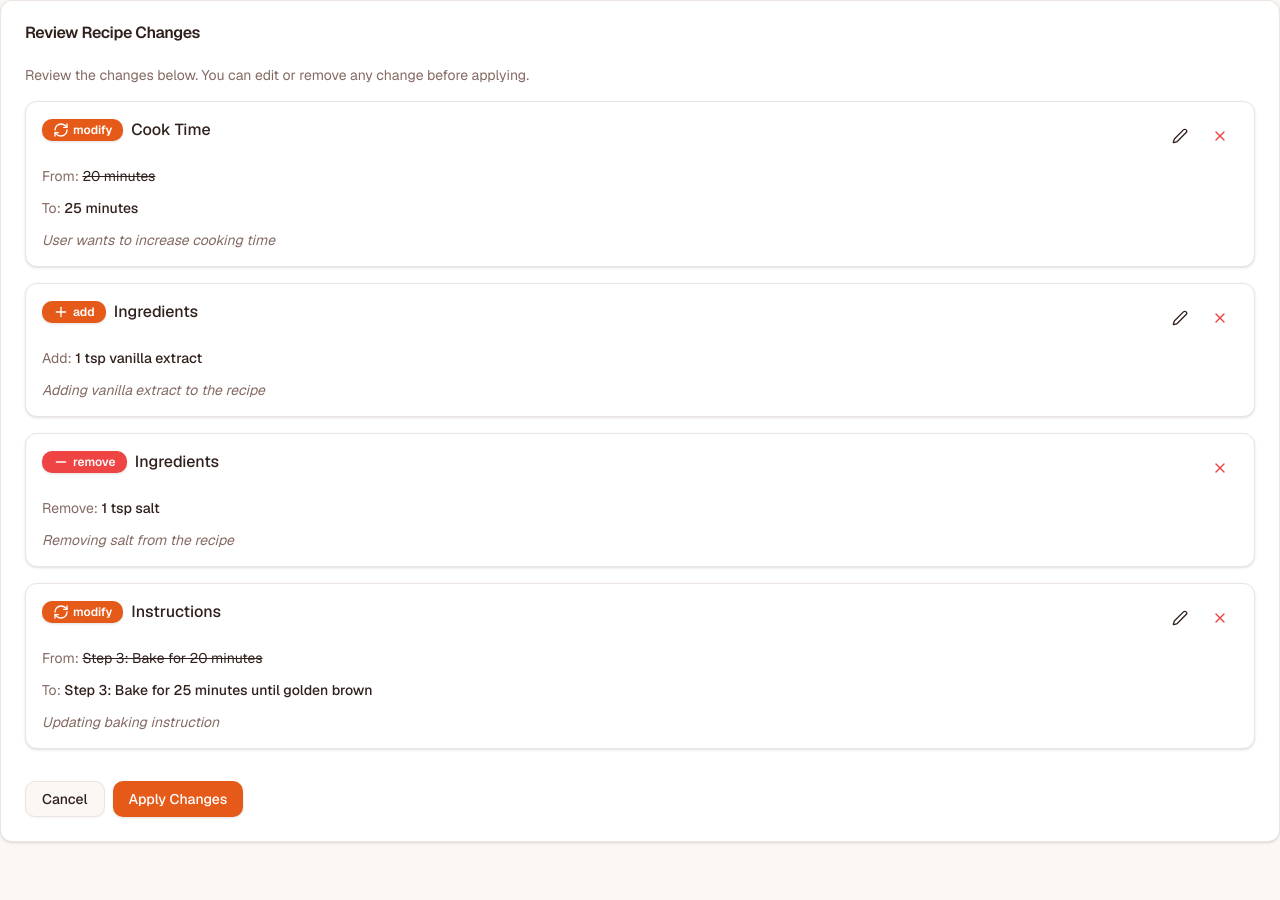
Test: VoiceChangeReview › allows removing a change
Click the 2nd button: click(1220, 136) [1202, 118, 1238, 154]
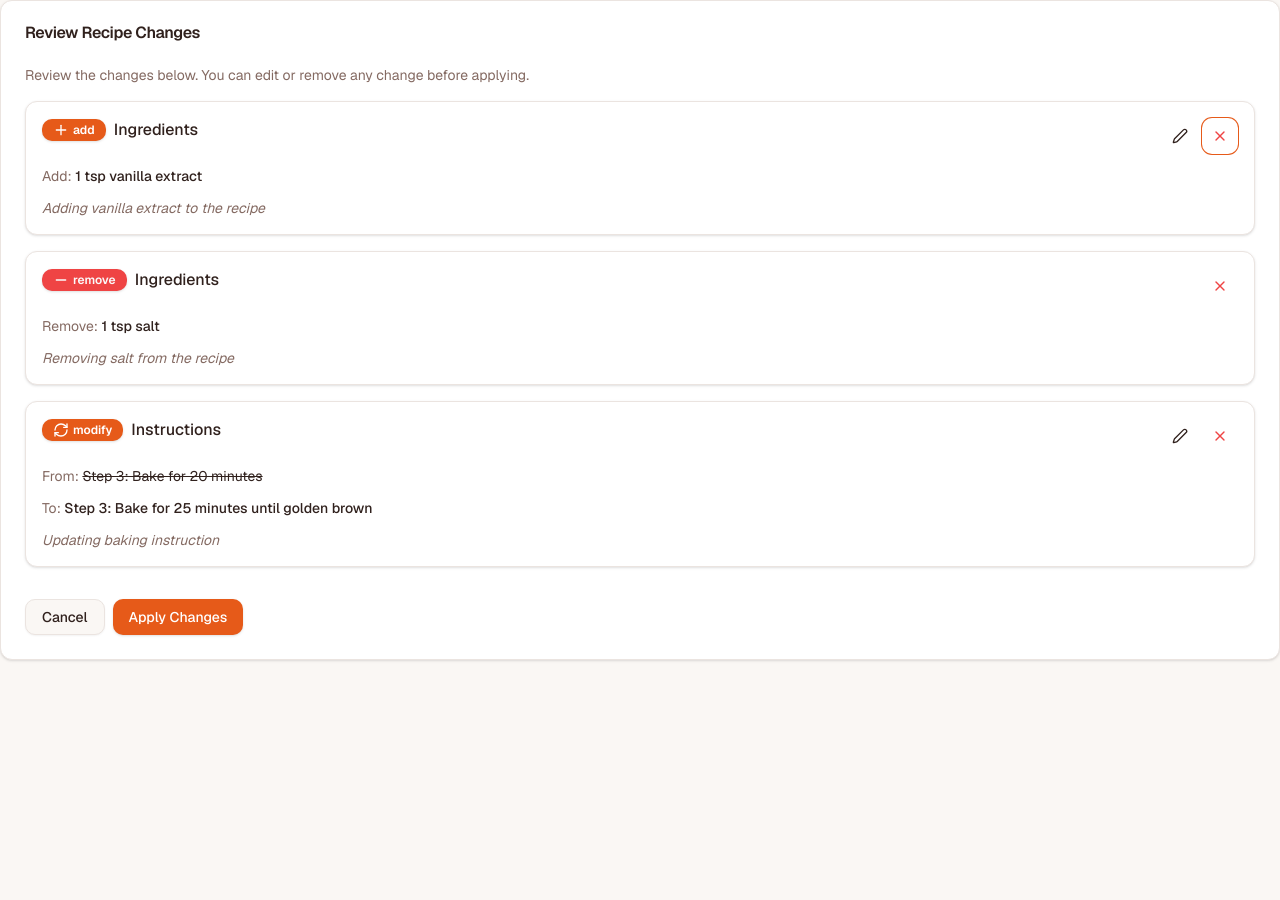
expect the text "Cook Time" is gone: met
